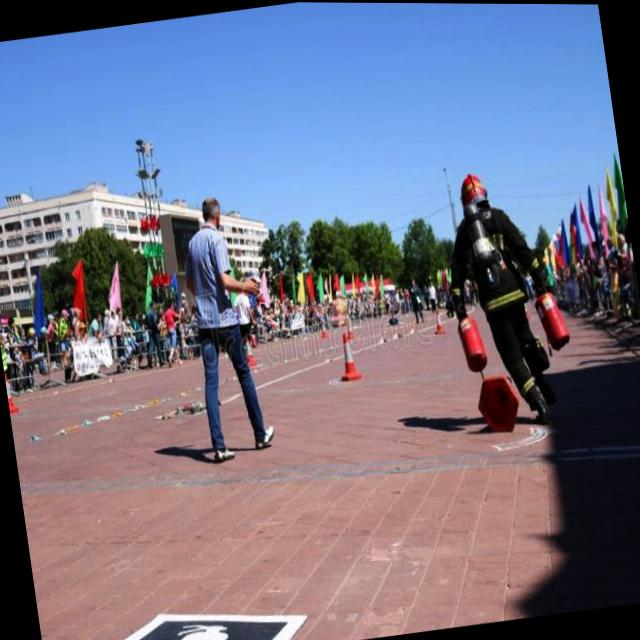FireExtinguisher: (442, 283, 494, 381), (528, 276, 574, 359)
